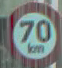Speed limit: (5, 4, 54, 61)
